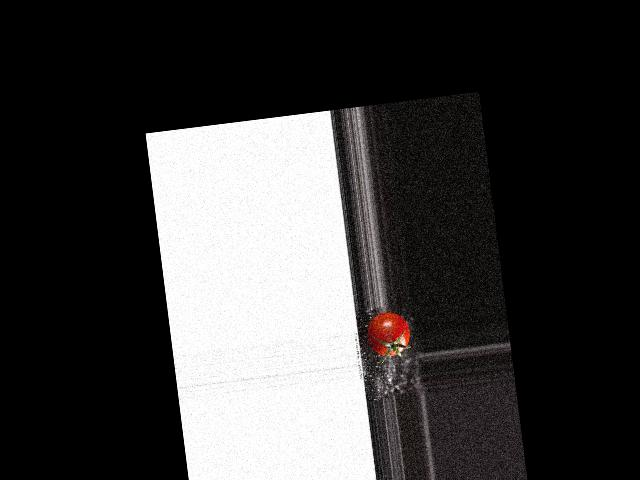tomato: (364, 310, 412, 358)
